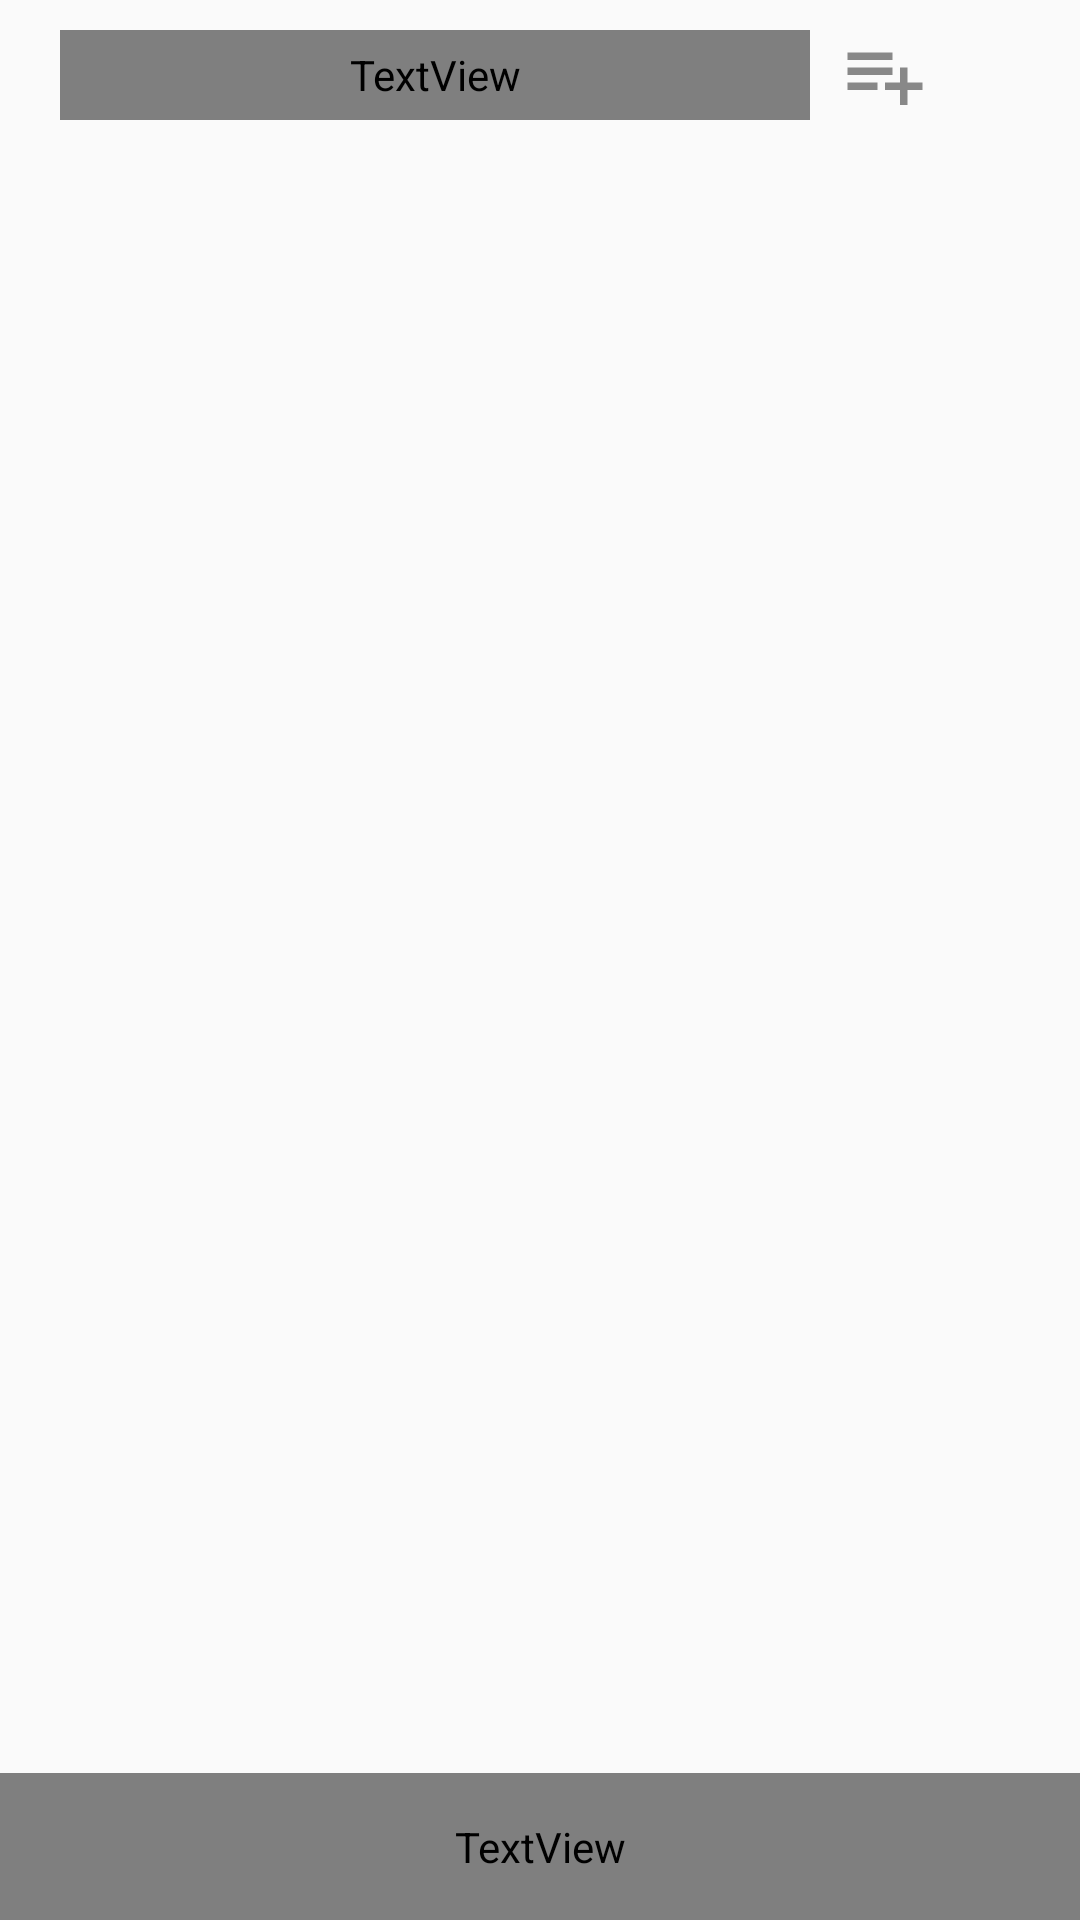

Where icons sit on this 1080x1920 app screen, as (x1=x1, y1=y1, x2=x2, y2=y2):
current add: (x1=847, y1=52, x2=923, y2=105)
